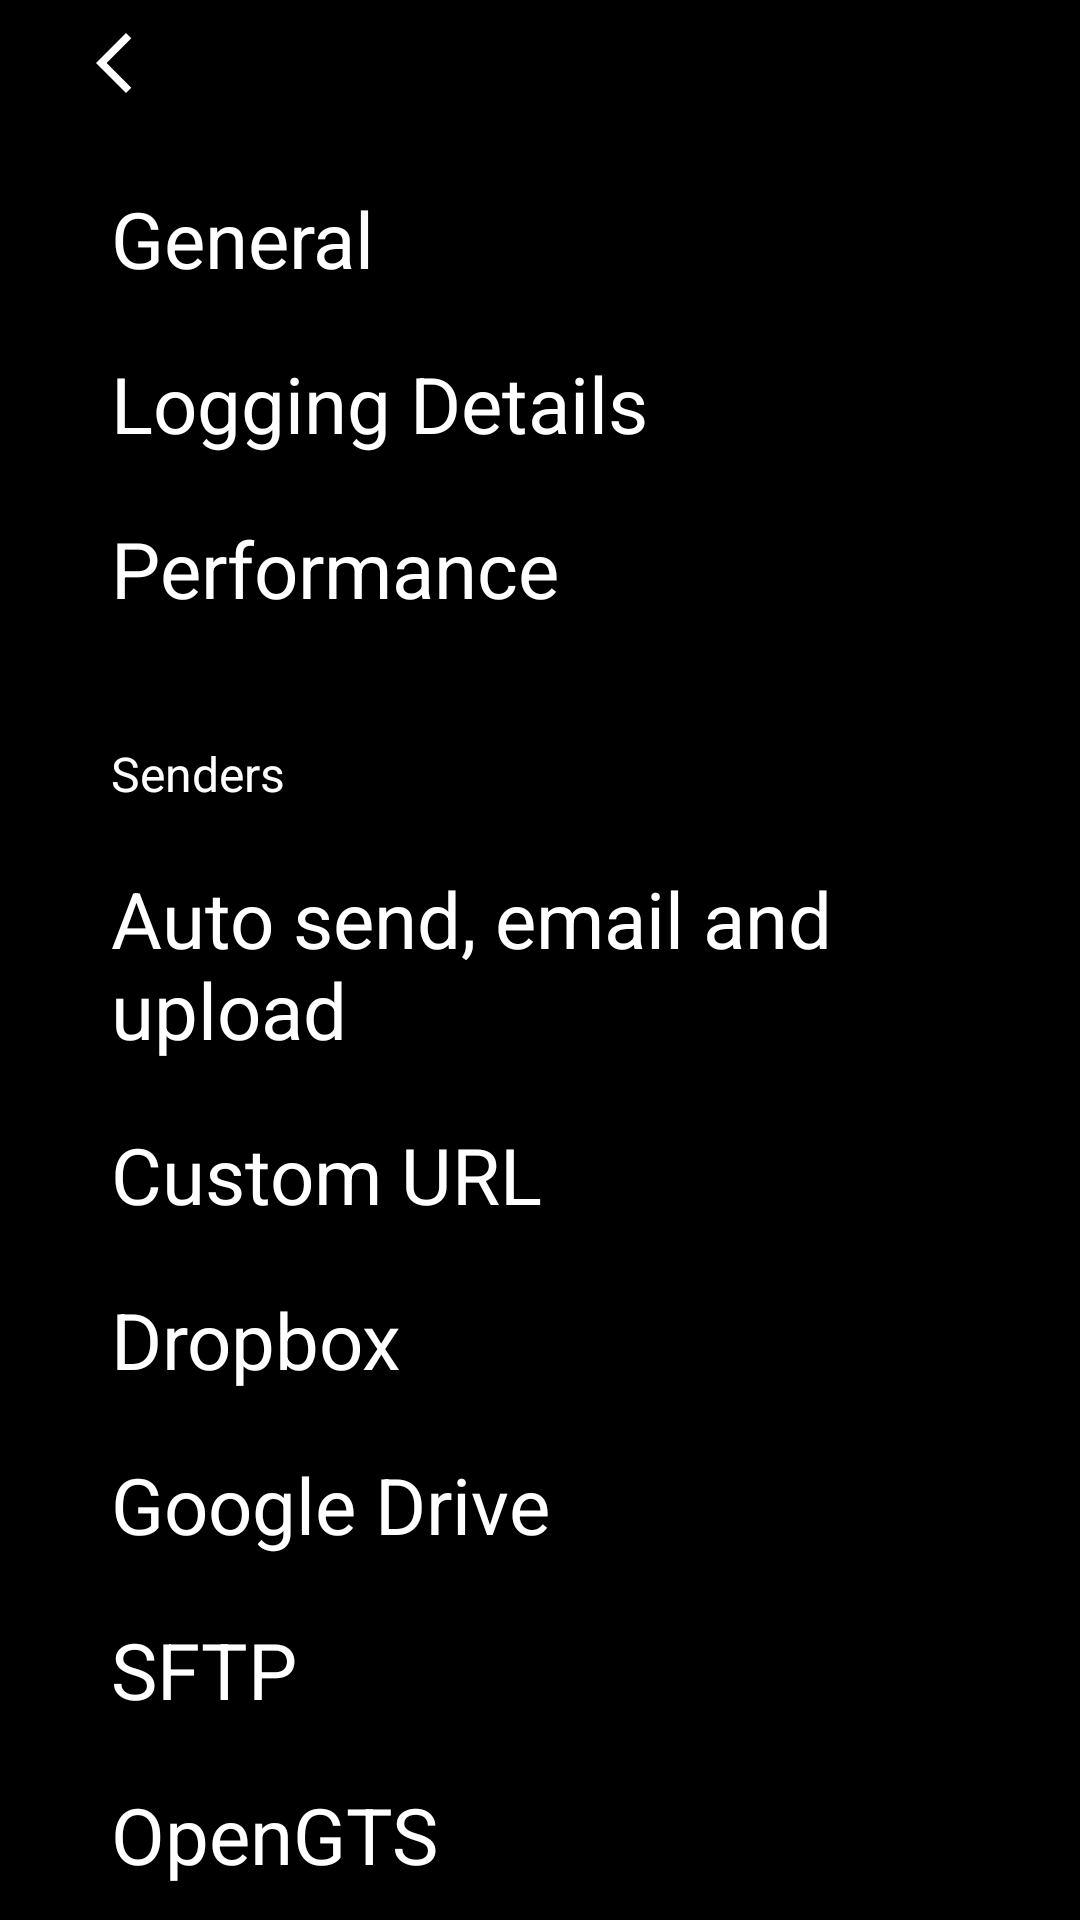

Where to tap for icons on this 1080*1920 app screen, as (x=x, y=y):
Back: (x=113, y=63)
